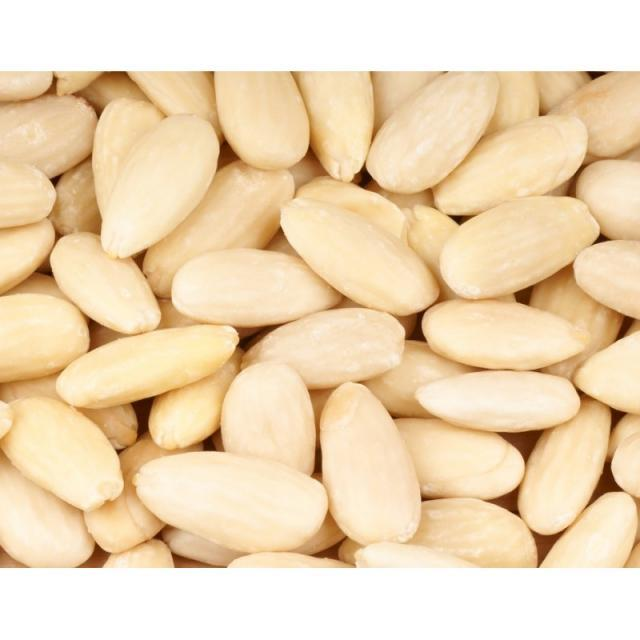Frutta secca: (7, 85, 635, 570)
